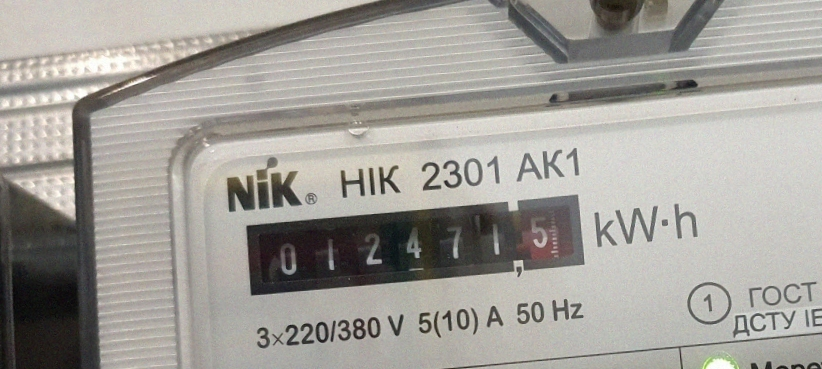0: (274, 239, 300, 277)
1: (323, 236, 337, 272), (488, 220, 501, 257)
2: (361, 230, 384, 267)
4: (402, 223, 423, 261)
5: (527, 211, 551, 250)
7: (442, 222, 465, 262)
screen: (233, 184, 597, 305)
